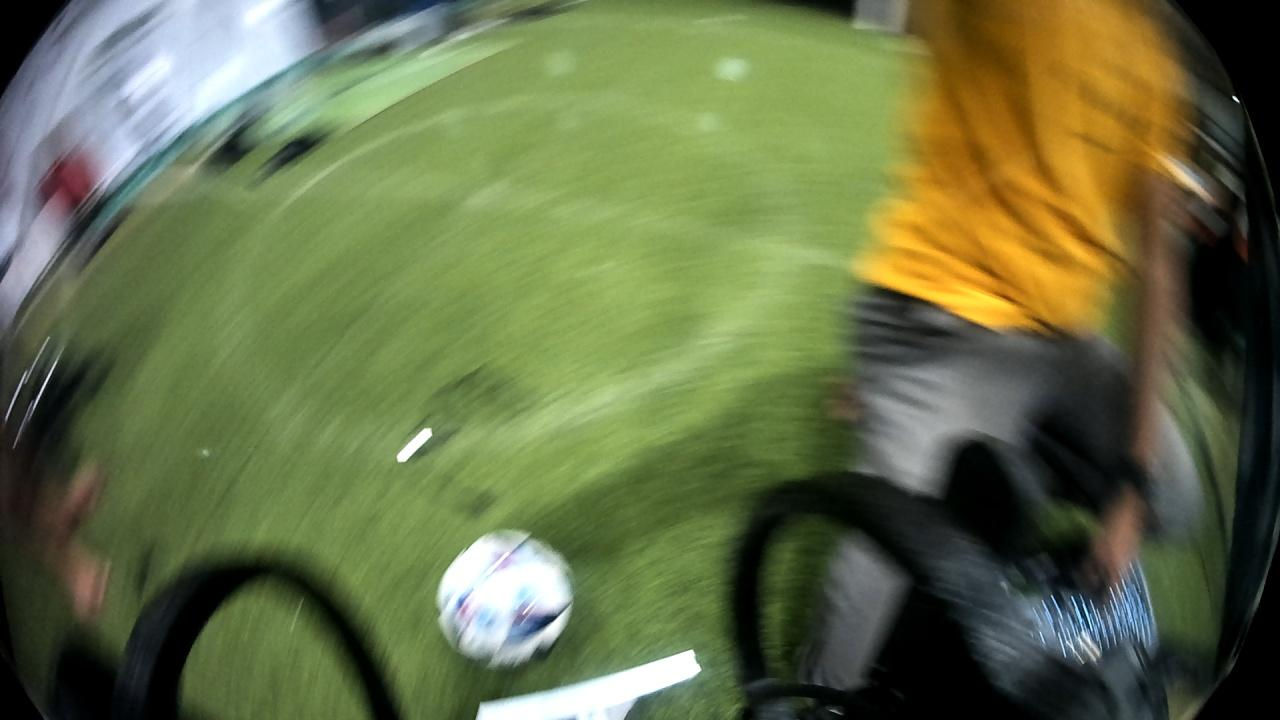ball: (431, 523, 578, 673)
